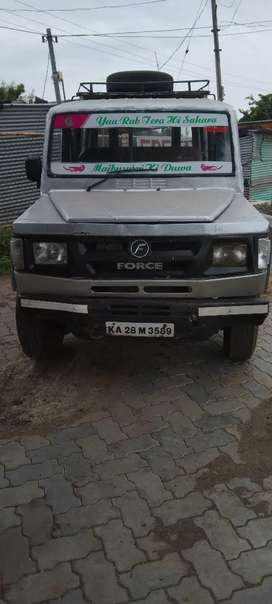KA28M3589: (105, 319, 174, 337)
